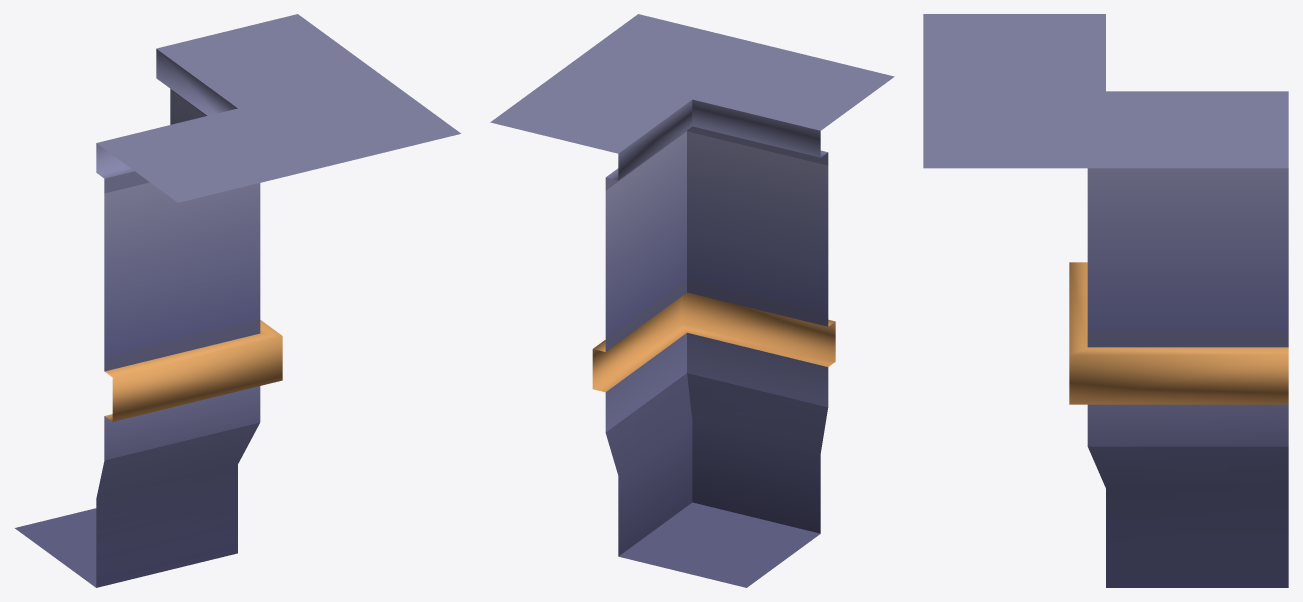
The model's file is kenney-factory-structure-corner-inner.glb.
3 views of the same model, side by side, from view 1: azimuth 30°, elevation 25°; view 2: azimuth 150°, elevation 25°; view 3: azimuth 270°, elevation 25° (orthographic). The views are drawn at different scales.
Parts seen in each view (by area): view 1: structure-corner-inner; view 2: structure-corner-inner; view 3: structure-corner-inner.
Boxes of the visible parts, x1,y1,x2,y2 form: structure-corner-inner: (15, 14, 460, 587); structure-corner-inner: (490, 14, 894, 587); structure-corner-inner: (923, 14, 1288, 587).
Bounding box in the file's own units: 3 × 4.5 × 3.
Materials: 1 (1 with a texture image).
